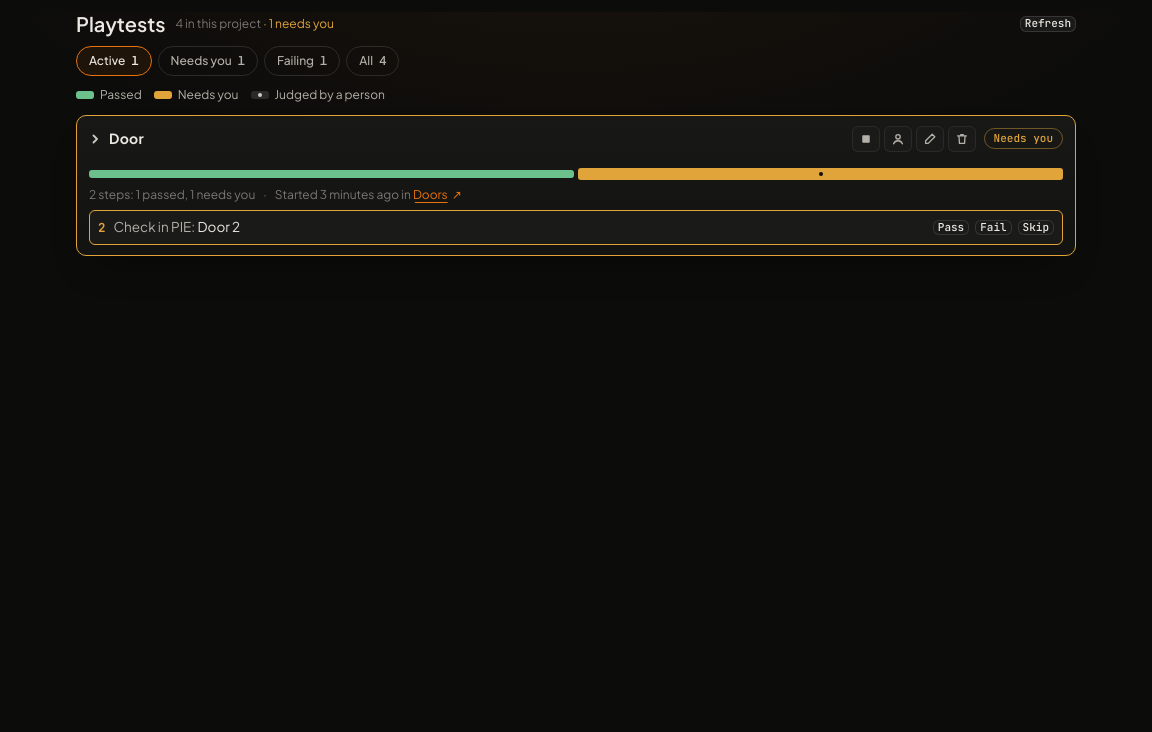
the Playtests page › starts a script no session has in a card of its own, in one click
This screenshot has width=1152, height=732.
Click the button "All 4" at (373, 61), box [346,46,399,76]
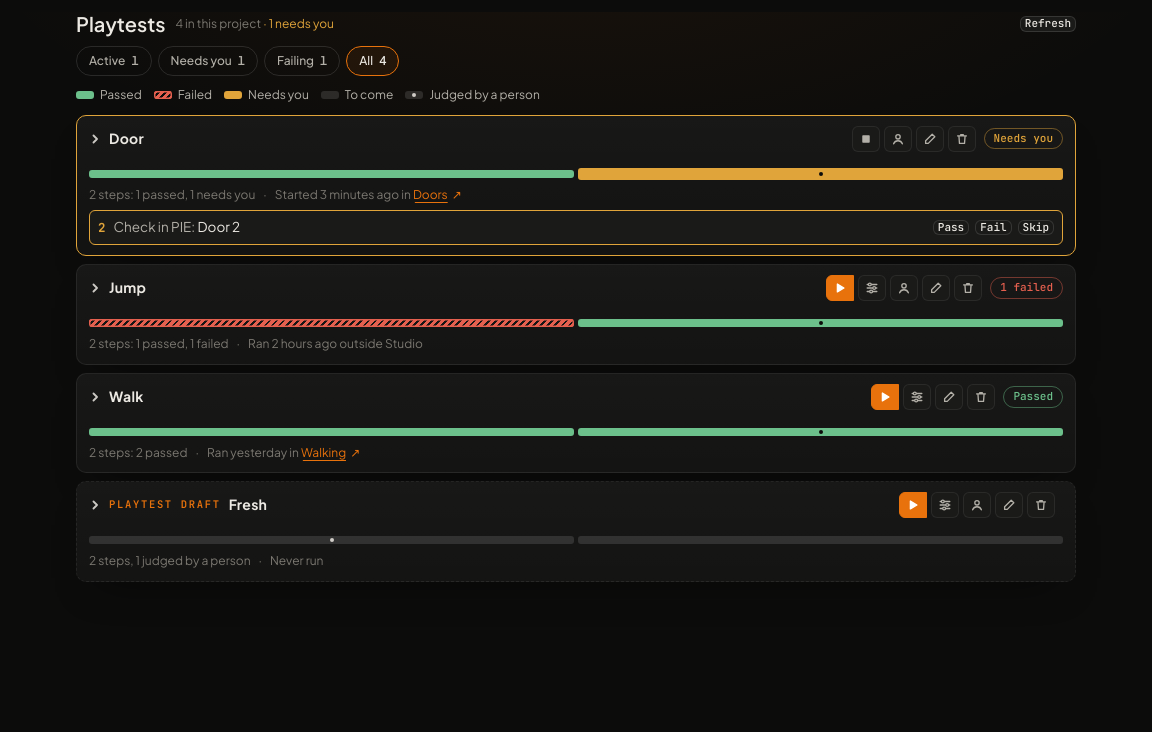
Click the button named "Start playtest" at (913, 505), box [899,492,927,518]
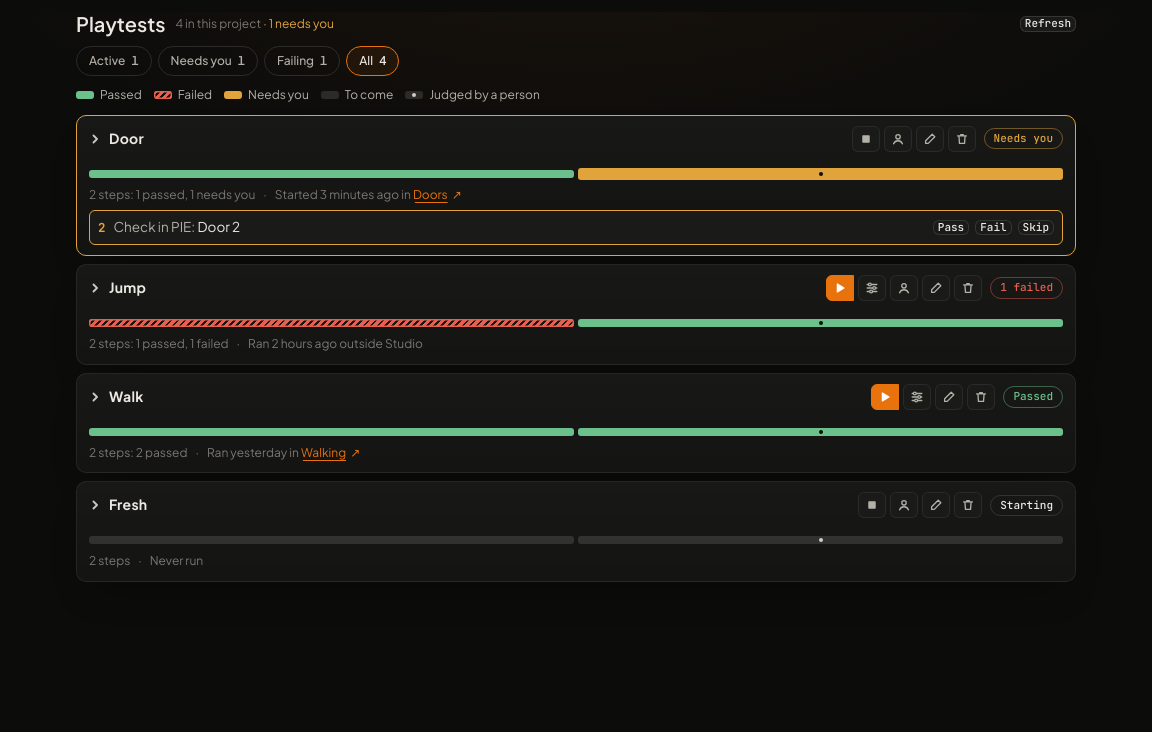
Now the message "Starting" is shown, box [990,494,1063,516]
